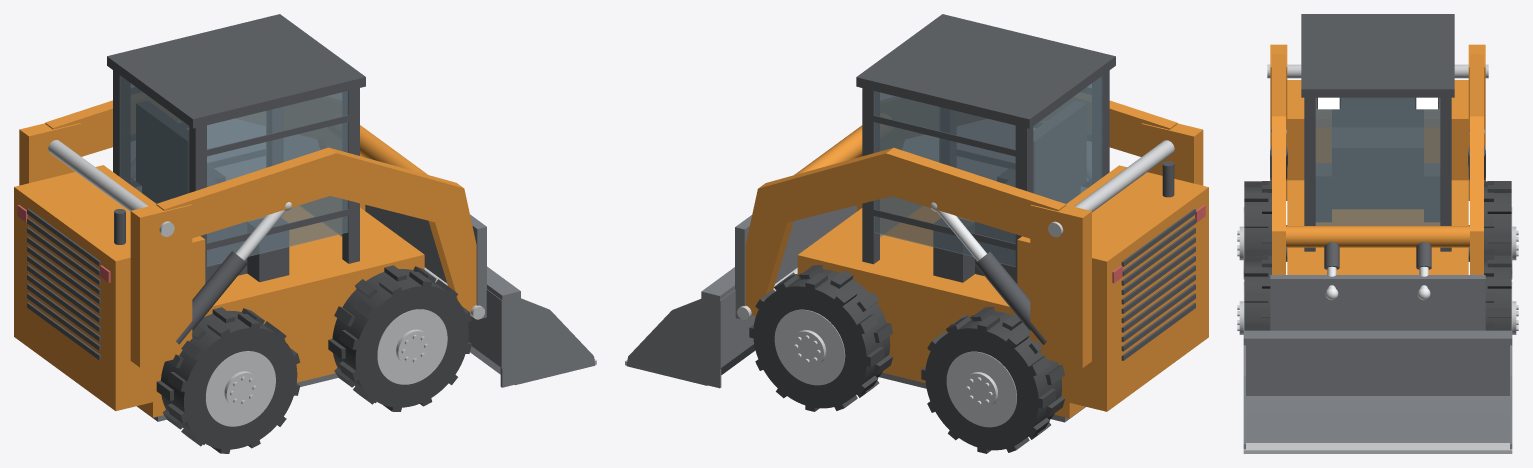
The model's file is Skid_Steer_Loader.glb.
3 renders of one model, left to right at view 1: azimuth 30°, elevation 25°; view 2: azimuth 150°, elevation 25°; view 3: azimuth 270°, elevation 25°, orthographic. The views are drawn at different scales.
Parts seen in each view (by area): view 1: body, cab_frame, cab_glass, lift_arm_2, tyre_4, tyre_2, bucket, seat, rear_grille, rim_2, rim_4, quick_attach (+5 smaller); view 2: body, cab_frame, cab_glass, lift_arm, tyre_3, tyre, bucket, seat, rear_grille, rim, rim_3, quick_attach (+5 smaller); view 3: bucket, cab_frame, cab_glass, body, seat, quick_attach, cross_tube, lift_arm, lift_arm_2, bucket_edge, tyre, tyre_2 (+8 smaller).
Part boxes in pixels (box(x1,y1,x2,y2)): body: box(14, 123, 424, 417); cab_frame: box(107, 14, 365, 283); cab_glass: box(119, 75, 348, 266); lift_arm_2: box(156, 147, 476, 313); tyre_4: box(328, 265, 471, 411); tyre_2: box(156, 307, 300, 453); bucket: box(468, 266, 595, 387); seat: box(136, 101, 289, 282); rear_grille: box(27, 208, 100, 360); rim_2: box(205, 351, 275, 426); rim_4: box(377, 309, 447, 384); quick_attach: box(365, 205, 486, 318); body: box(797, 123, 1208, 418); cab_frame: box(856, 14, 1115, 283); cab_glass: box(874, 75, 1103, 267); lift_arm: box(745, 147, 1066, 316); tyre_3: box(749, 265, 892, 411); tyre: box(921, 307, 1064, 453); bucket: box(626, 267, 755, 388); seat: box(933, 101, 1086, 282); rear_grille: box(1121, 209, 1195, 360); rim: box(946, 351, 1016, 427); rim_3: box(774, 309, 845, 385); quick_attach: box(735, 205, 856, 320); bucket: box(1243, 330, 1512, 449); cab_frame: box(1301, 14, 1454, 251); cab_glass: box(1315, 97, 1440, 225); body: box(1270, 44, 1485, 274); seat: box(1316, 98, 1439, 221); quick_attach: box(1270, 275, 1485, 330); cross_tube: box(1286, 226, 1469, 247); lift_arm: box(1470, 54, 1483, 274); lift_arm_2: box(1272, 54, 1285, 274); bucket_edge: box(1243, 443, 1512, 453); tyre: box(1484, 181, 1511, 255); tyre_2: box(1244, 181, 1271, 255).
Bounding box in the file's own units: 3.07 × 2.01 × 1.83.
